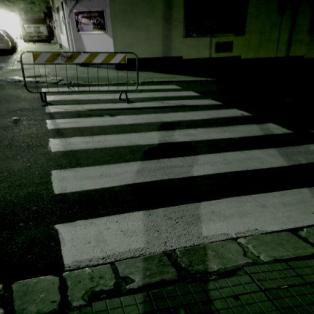Paso de Cebra: (42, 122, 314, 196)
